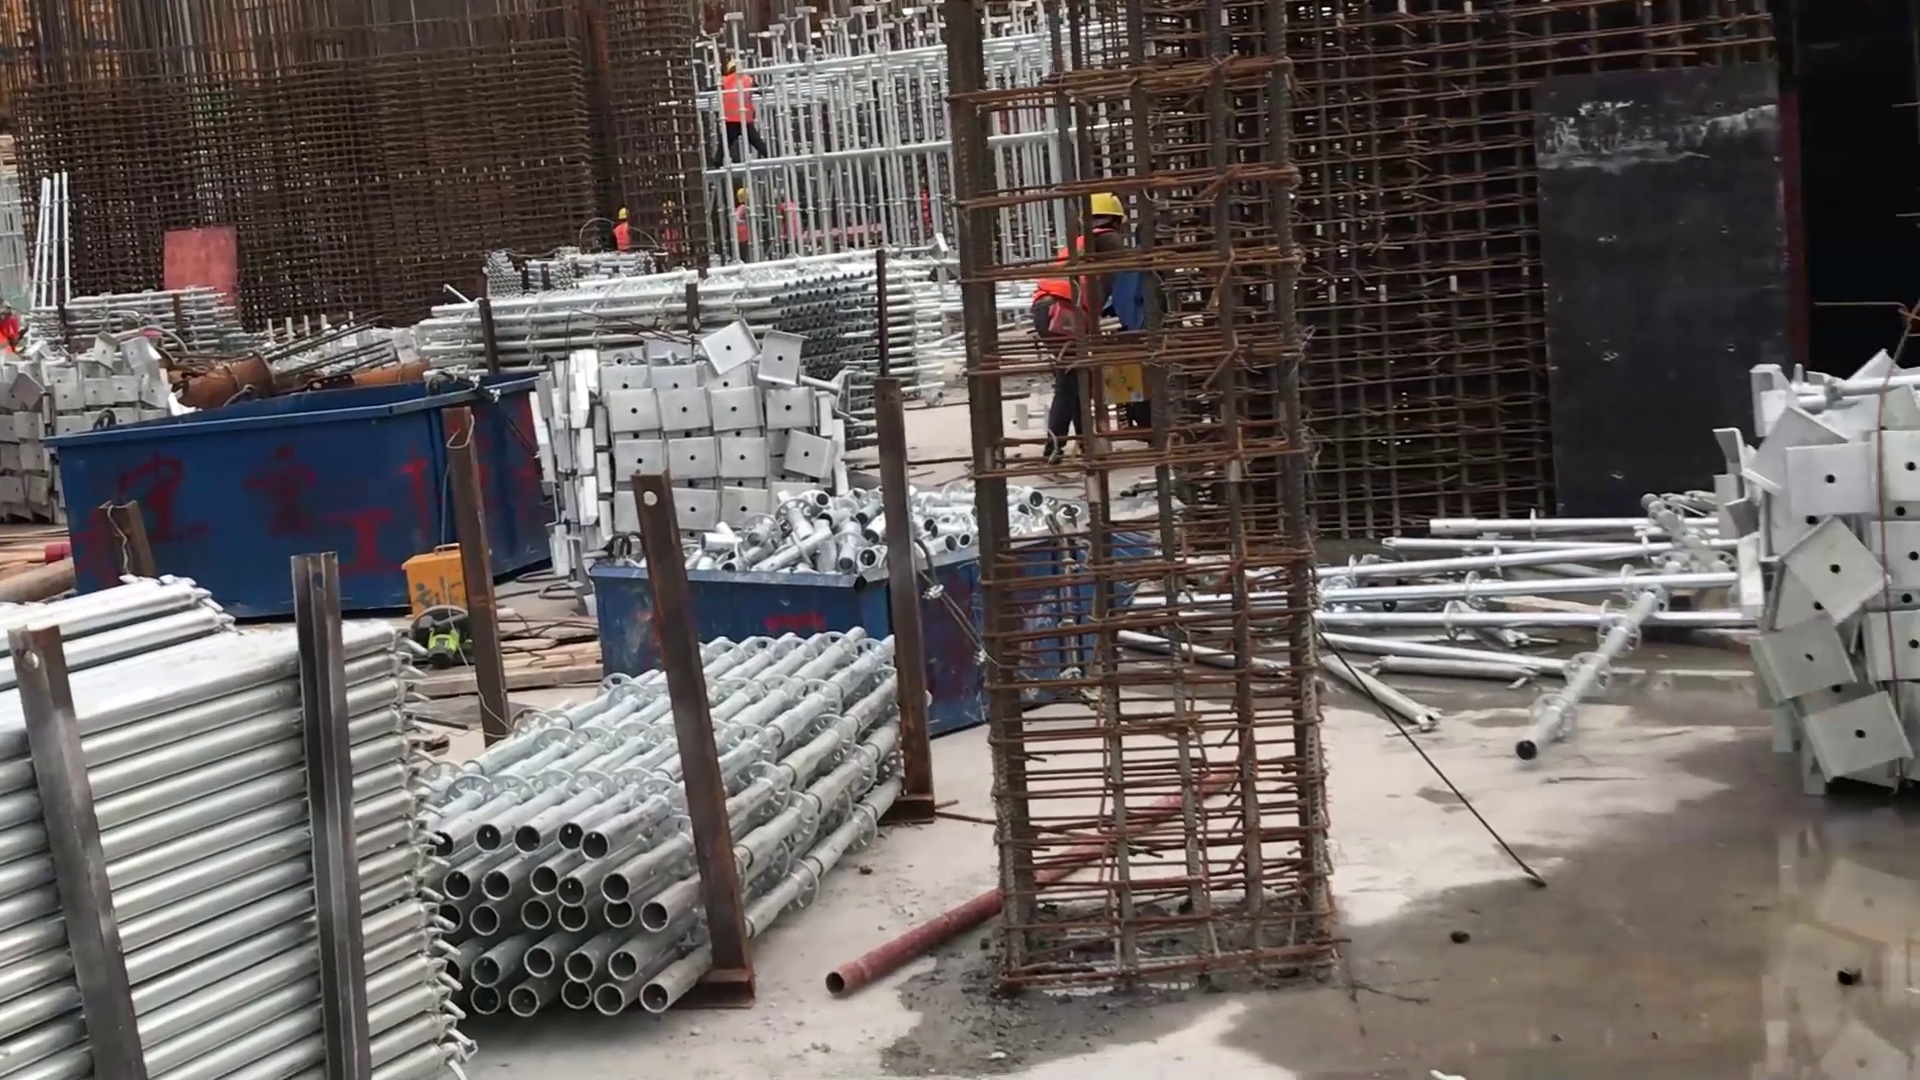ebox: (396, 531, 479, 628)
hopper: (62, 381, 553, 626), (572, 547, 1026, 733)
scaffold: (3, 559, 496, 1080), (426, 612, 924, 1026), (422, 251, 934, 402)
